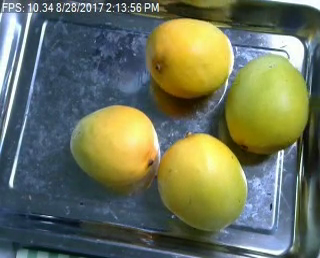Mango: (155, 132, 246, 233), (225, 55, 307, 153), (68, 106, 157, 185), (146, 18, 235, 96)
